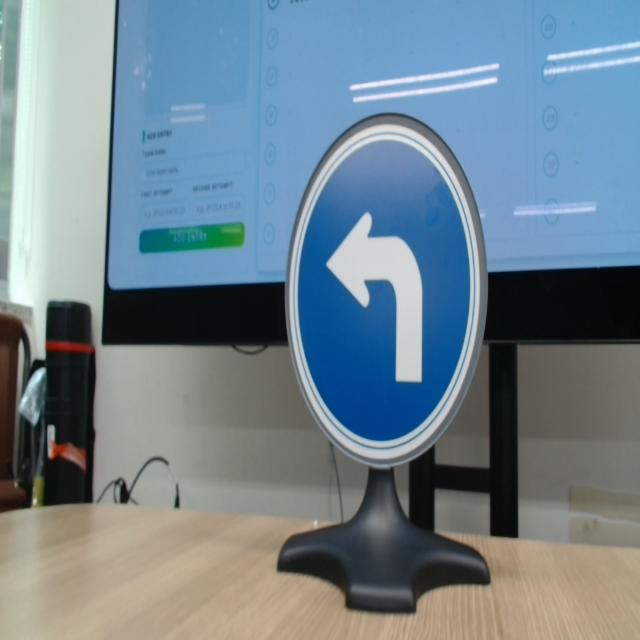left_direction: (279, 100, 503, 485)
